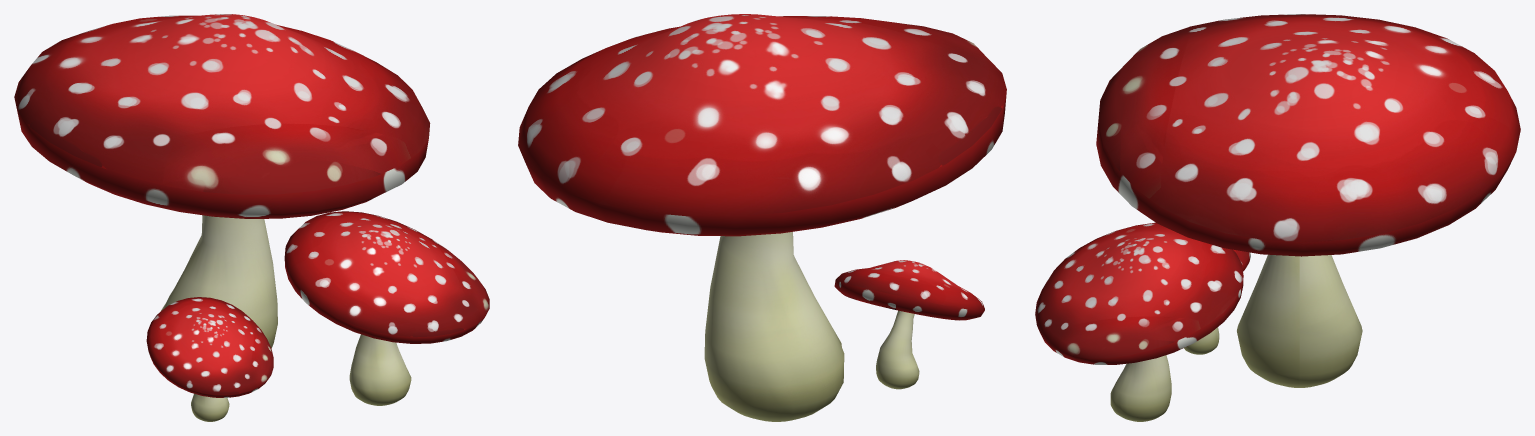
File: Mushroomsfbx.fbx
3 views of the same model, side by side, from view 1: azimuth 30°, elevation 25°; view 2: azimuth 150°, elevation 25°; view 3: azimuth 270°, elevation 25° (orthographic). The views are drawn at different scales.
Parts seen in each view (by area): view 1: Object_2; view 2: Object_2; view 3: Object_2.
Part boxes in pixels (x1,y1,x2,y2): Object_2: (14,14,489,421); Object_2: (518,14,1006,421); Object_2: (1035,14,1520,421).
Size of the model in its own units: 5720 by 5021 by 6560.
